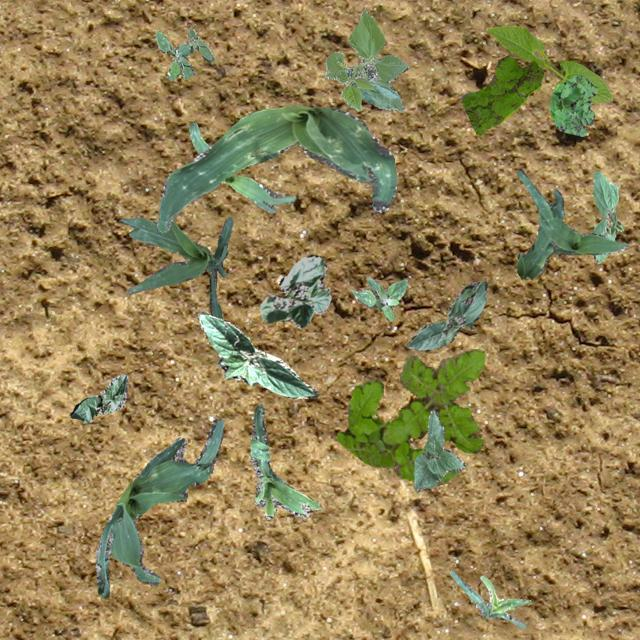crop: (154, 104, 396, 232), (94, 418, 222, 596), (514, 168, 628, 278), (118, 216, 232, 318), (196, 310, 318, 398), (486, 23, 612, 102), (188, 120, 294, 212), (323, 9, 408, 110), (250, 404, 320, 518), (406, 280, 486, 348), (258, 254, 329, 328), (449, 570, 527, 628), (414, 408, 464, 491), (68, 372, 128, 422), (590, 170, 622, 262)
weed: (336, 348, 484, 484), (460, 54, 542, 134), (154, 28, 213, 80), (548, 74, 596, 136), (351, 276, 406, 320)
